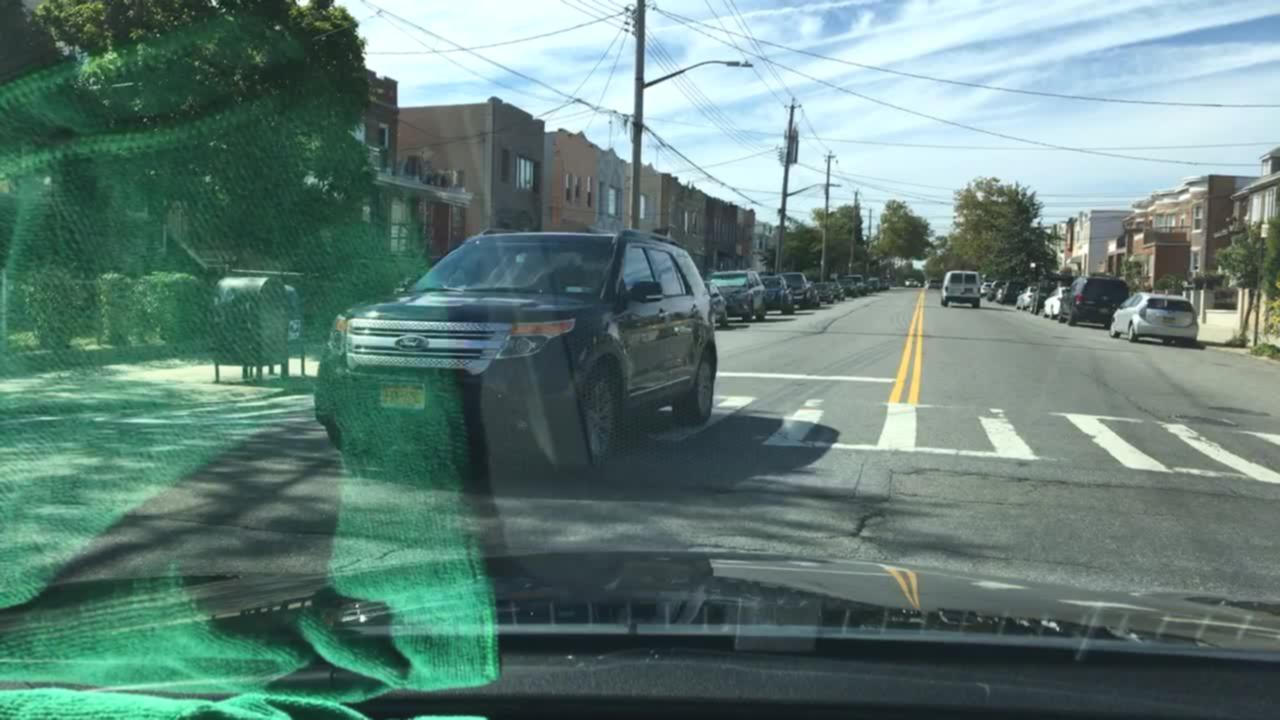ford: (389, 332, 429, 353)
